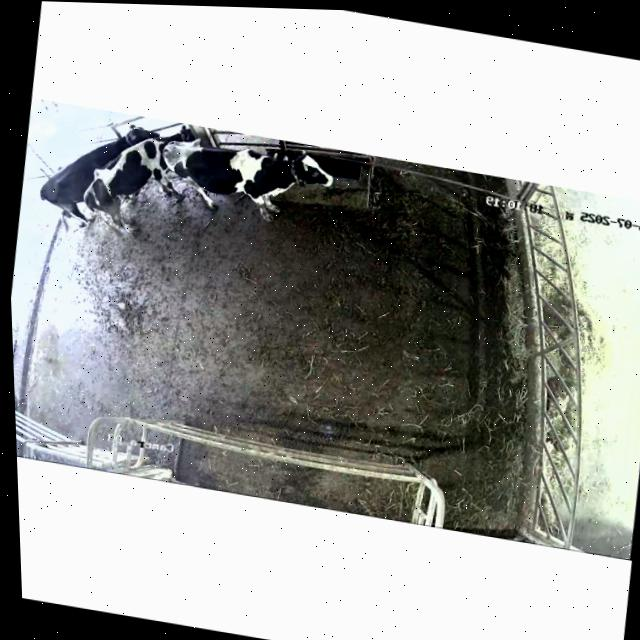stand: (161, 130, 339, 230), (41, 125, 160, 222), (84, 133, 189, 233)
